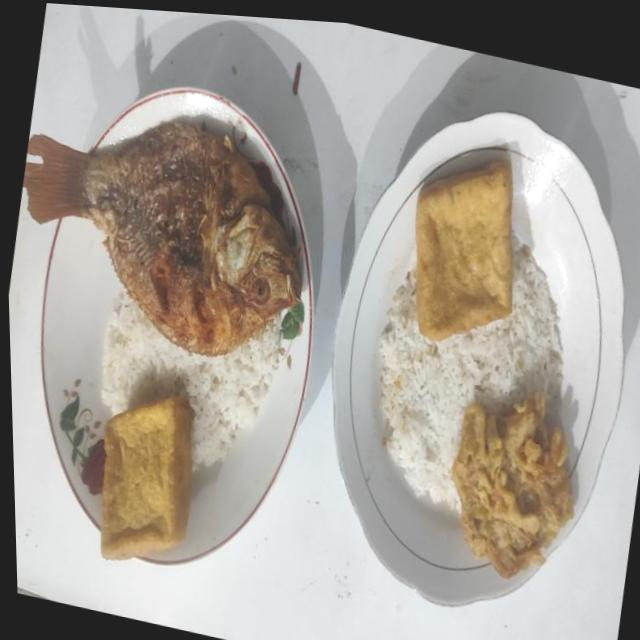ikan_mujair: (22, 122, 302, 356)
nasi_putih: (379, 246, 563, 511), (102, 290, 284, 469)
tahu_goreng: (416, 162, 514, 340), (101, 396, 193, 560)
